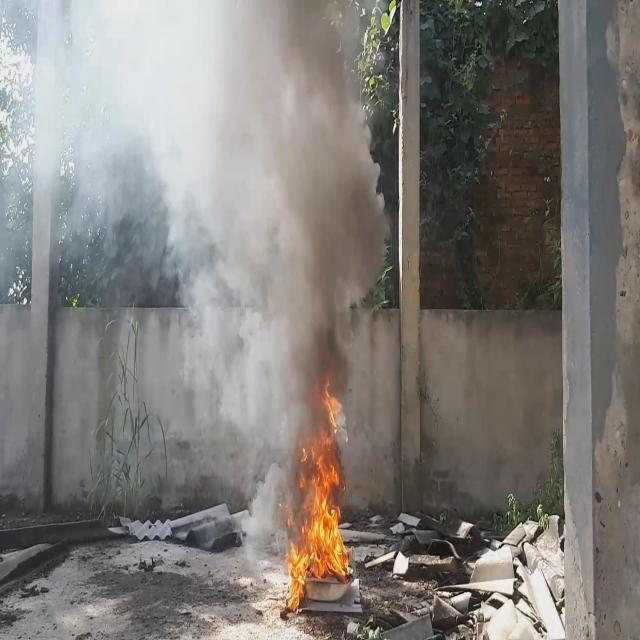Fire: (280, 384, 356, 617)
Smoke: (0, 0, 392, 542)
